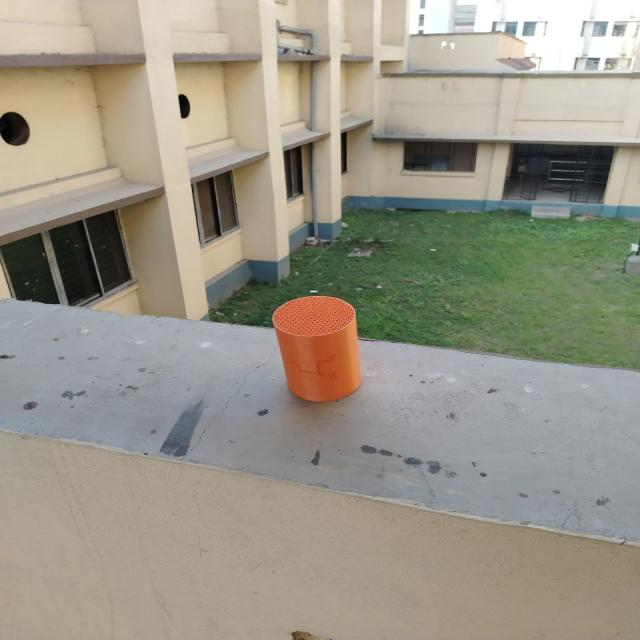Cylinder: (270, 294, 362, 402)
